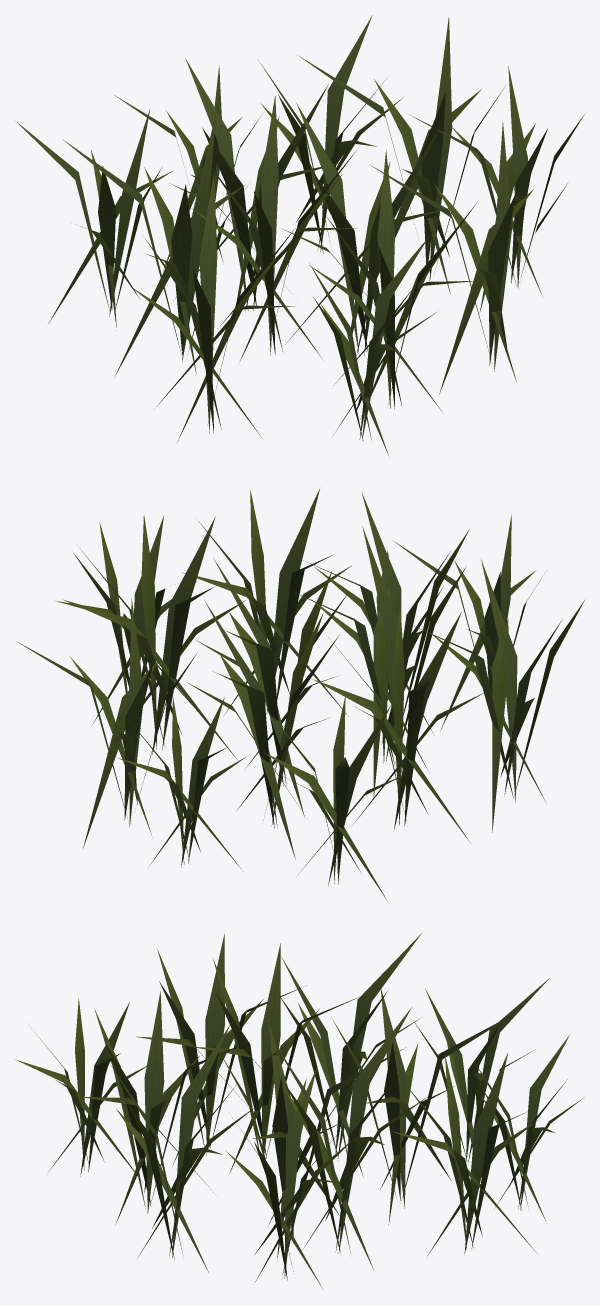
File: grass1.fbx
3 views of the same model, one above another, from view 1: azimuth 30°, elevation 25°; view 2: azimuth 150°, elevation 25°; view 3: azimuth 270°, elevation 25° (orthographic). The views are drawn at different scales.
Visible parts, largest first — view 1: SM_020_Grass_01a; view 2: SM_020_Grass_01a; view 3: SM_020_Grass_01a.
Part boxes in pixels (x1,y1,x2,y2): SM_020_Grass_01a: (16,15,584,455); SM_020_Grass_01a: (17,489,584,901); SM_020_Grass_01a: (15,933,584,1288).
Bounding box in the file's own units: 42.03 × 22.74 × 48.86.
